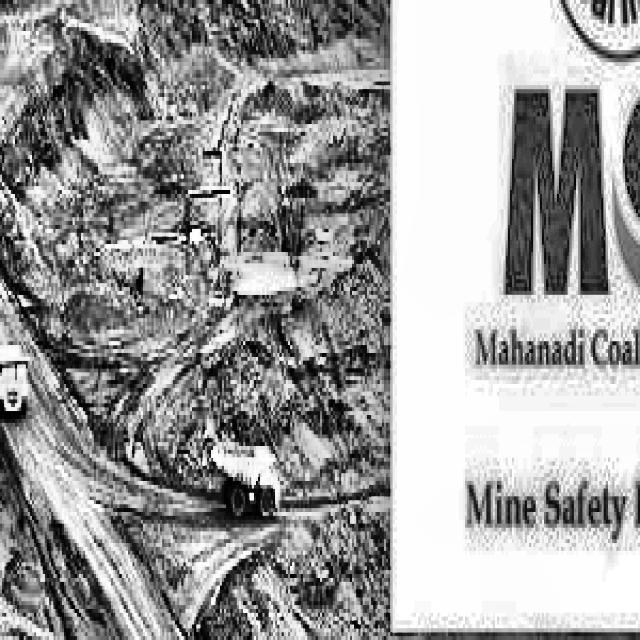dump_truck: (209, 449, 288, 527), (0, 322, 34, 438)
